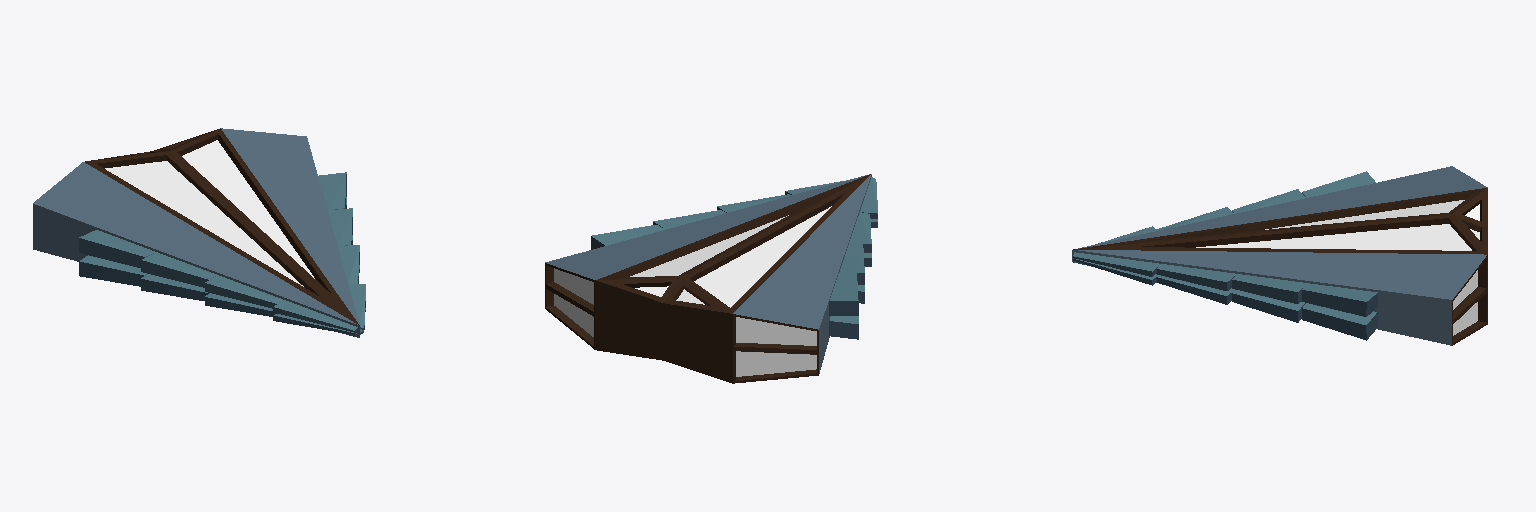
The picture shows the model from 3 angles: view 1: azimuth 30°, elevation 25°; view 2: azimuth 150°, elevation 25°; view 3: azimuth 270°, elevation 25°; orthographic projection.
Parts seen in each view (by area): view 1: Cube; view 2: Cube; view 3: Cube.
Boxes of the visible parts, <box> form: Cube: <box>33,128,365,337</box>; Cube: <box>545,174,877,383</box>; Cube: <box>1072,166,1487,345</box>.
Bounding box in the file's own units: 2.5 × 0.7279 × 3.28.
1 materials, 1 textured.